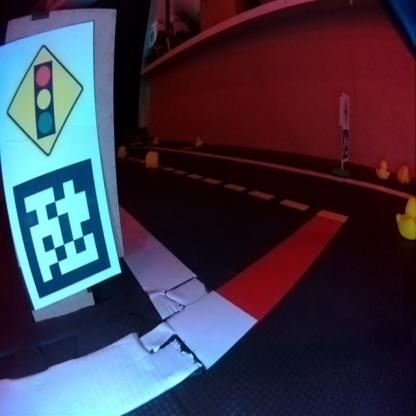Duckie: (396, 199, 414, 235), (376, 161, 388, 178), (398, 165, 409, 183), (146, 151, 158, 167), (118, 148, 126, 158), (153, 137, 158, 144), (197, 137, 201, 145)
Intersection sign: (342, 100, 349, 125)
QR code: (13, 156, 110, 296), (341, 128, 348, 158)
Signal sign: (2, 27, 94, 157)
